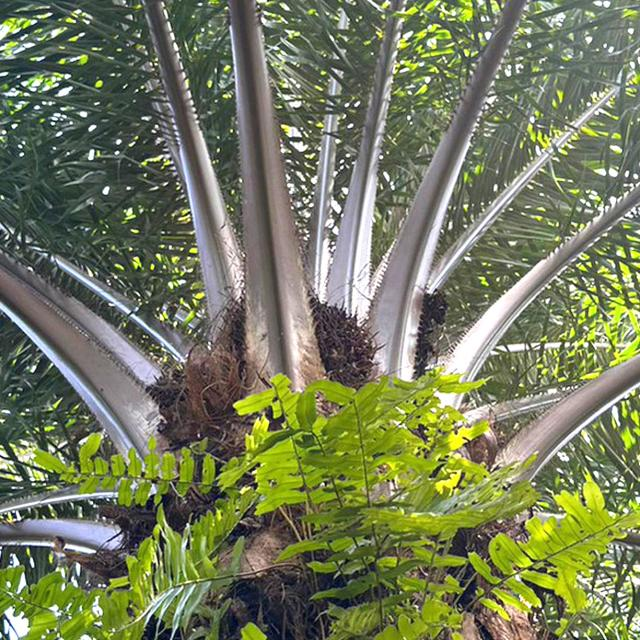ripe: (201, 275, 383, 398)
